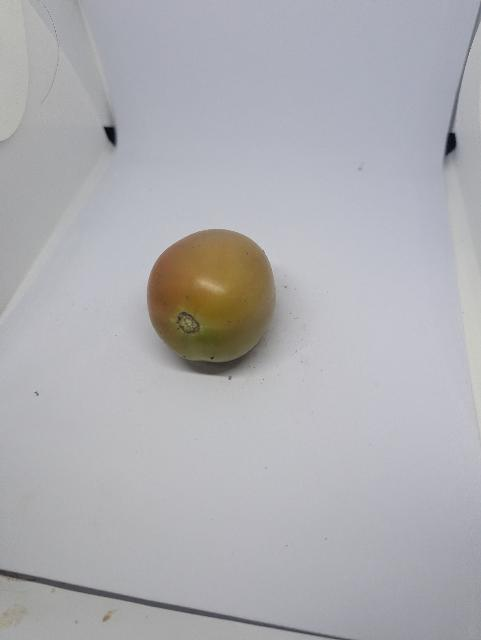breaker: (141, 227, 284, 372)
